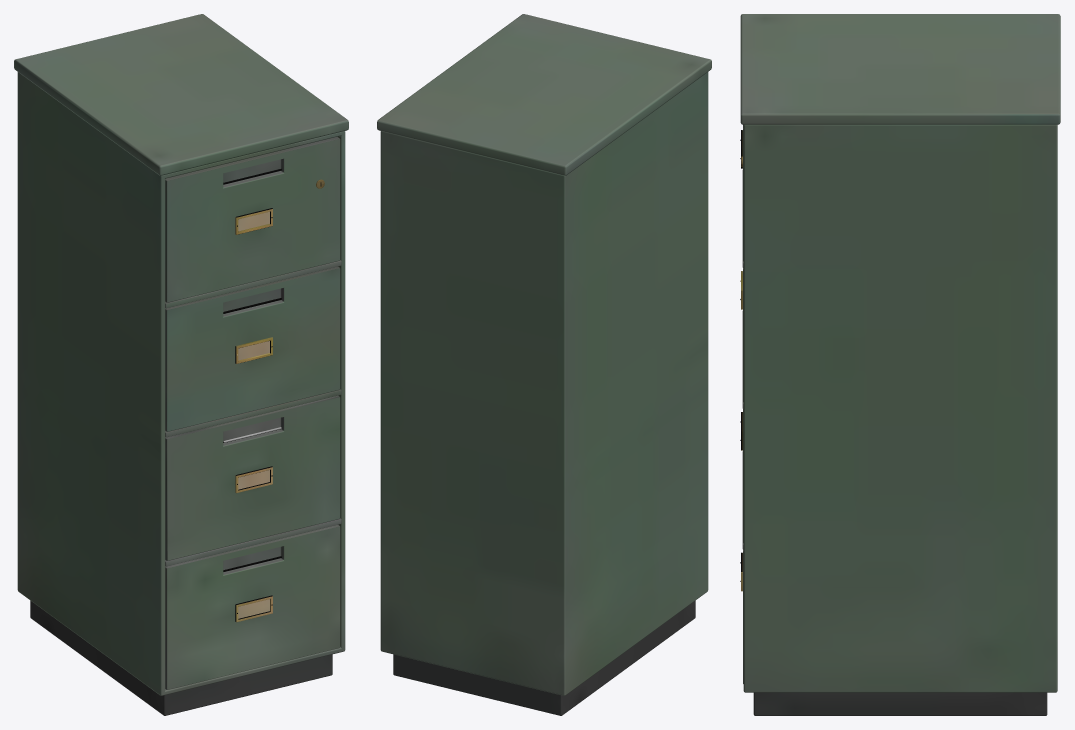
File: filing-cabinet-4.glb
3 views of the same model, side by side, from view 1: azimuth 30°, elevation 25°; view 2: azimuth 150°, elevation 25°; view 3: azimuth 270°, elevation 25° (orthographic). The views are drawn at different scales.
Visible parts, largest first — view 1: cabinet; view 2: cabinet; view 3: cabinet.
Boxes of the visible parts, <box> form: cabinet: <box>14,14,348,715</box>; cabinet: <box>377,14,711,715</box>; cabinet: <box>740,14,1060,715</box>.
Bounding box in the file's own units: 0.472 × 1.33 × 0.6323.
Materials: 1 (1 with a texture image).
